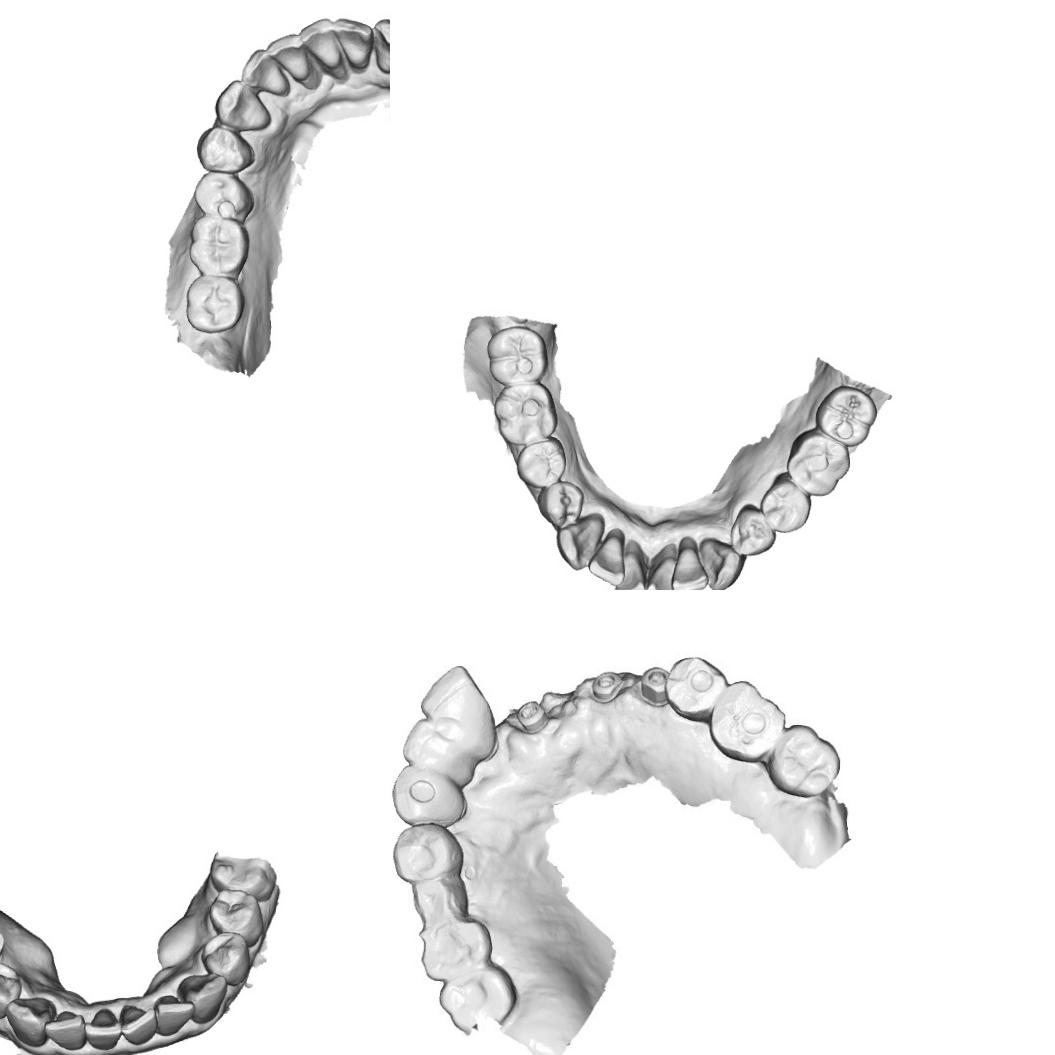canine: (393, 770, 466, 828), (213, 78, 273, 132), (3, 994, 58, 1048), (176, 970, 229, 1026), (554, 514, 604, 572), (697, 537, 746, 590), (370, 17, 390, 74)
implant: (514, 700, 559, 746), (638, 660, 668, 705), (591, 671, 618, 703)
incisor: (426, 667, 498, 760), (403, 722, 473, 784), (264, 29, 312, 84), (330, 14, 376, 71), (239, 48, 290, 98), (299, 16, 343, 72), (586, 535, 626, 588), (153, 993, 196, 1037), (43, 1008, 86, 1050), (82, 1006, 122, 1051), (671, 546, 709, 590), (120, 1002, 158, 1046), (612, 549, 646, 590), (645, 553, 678, 590)
molar: (710, 687, 784, 759), (784, 427, 852, 498), (440, 970, 515, 1032), (490, 380, 558, 446), (812, 382, 878, 448), (207, 844, 278, 903), (773, 728, 839, 791), (485, 324, 549, 386), (185, 216, 248, 278), (422, 921, 487, 980), (184, 276, 244, 334)
premolar: (663, 653, 730, 723), (393, 822, 464, 884), (206, 888, 264, 950), (758, 470, 812, 534), (192, 170, 255, 220), (408, 875, 470, 925), (194, 125, 257, 173), (199, 930, 252, 987), (514, 435, 566, 489), (728, 503, 776, 557), (536, 479, 585, 529), (0, 960, 23, 1021)
